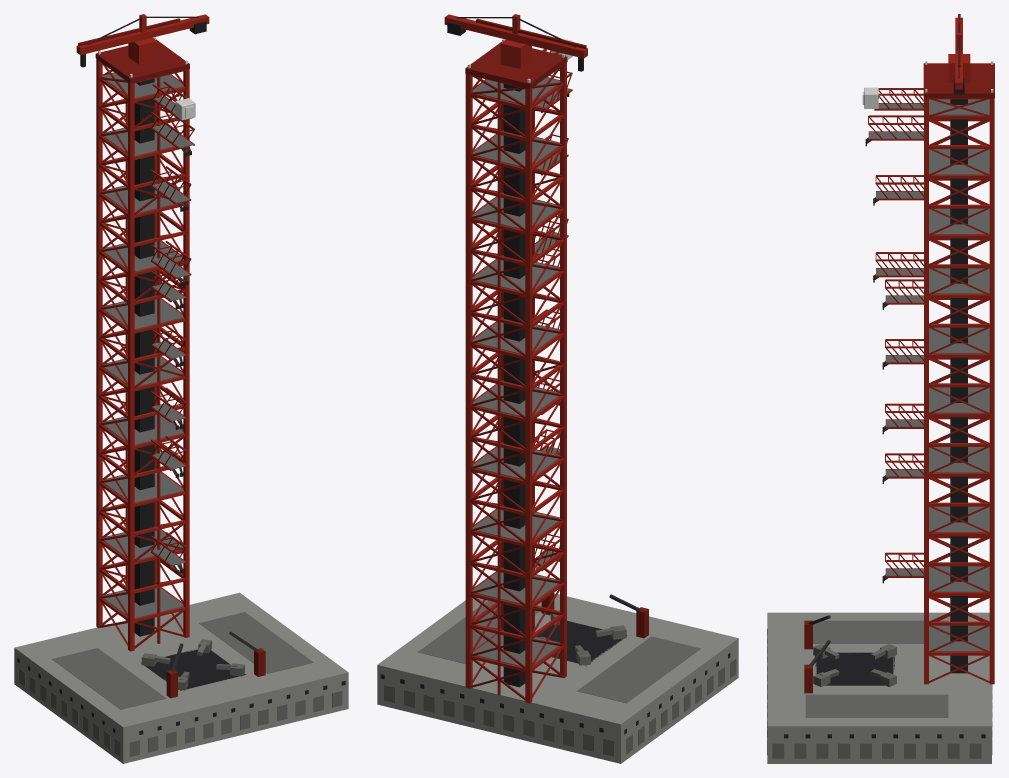
Rendered from launch_tower.glb.
3 renders of one model, left to right at view 1: azimuth 30°, elevation 25°; view 2: azimuth 150°, elevation 25°; view 3: azimuth 270°, elevation 25°, orthographic. The views are drawn at different scales.
Visible parts, largest first — view 1: model; view 2: model; view 3: model.
Part boxes in pixels (x1,y1,x2,y2): model: (14,14,348,763); model: (377,14,738,763); model: (767,14,994,763).
Size of the model in its own units: 49.12 by 136 by 41.56.
Materials: 1 (1 with a texture image).
